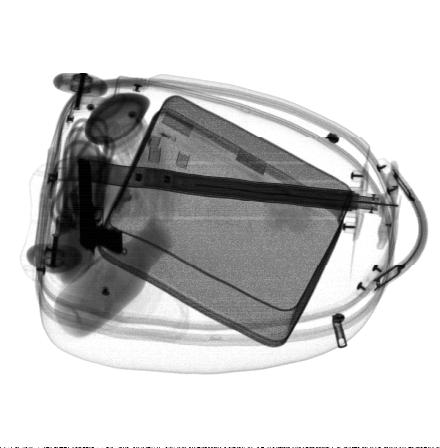Gun: (77, 158, 123, 257)
